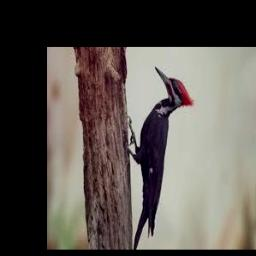Woodpecker: (127, 66, 193, 250)
